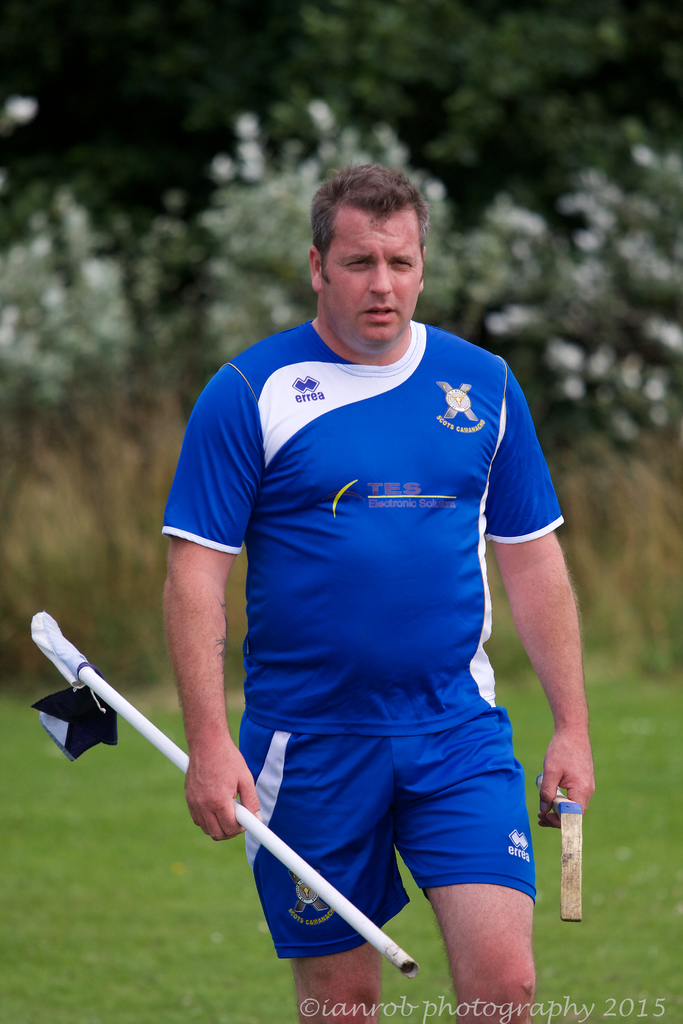Human_hand: (181, 750, 261, 845), (558, 715, 612, 849)
